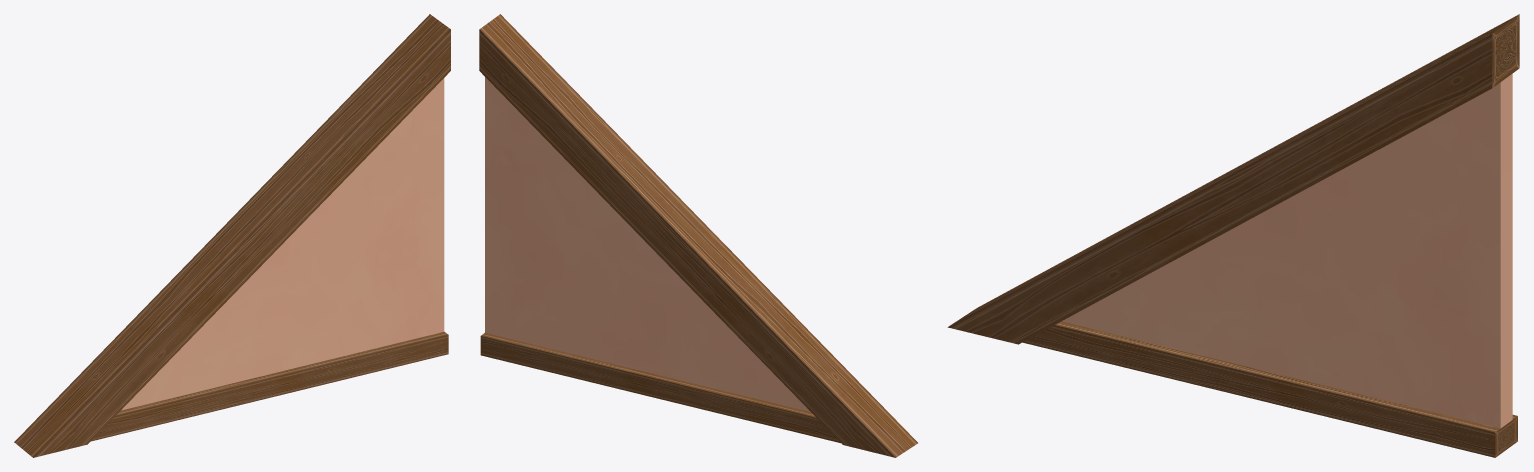
Rendered from SM_Roof_Wall_wrose.glb.
3 views of the same model, side by side, from view 1: azimuth 30°, elevation 25°; view 2: azimuth 150°, elevation 25°; view 3: azimuth 330°, elevation 25° (orthographic). The views are drawn at different scales.
Parts seen in each view (by area): view 1: SM_Roof_Wall; view 2: SM_Roof_Wall; view 3: SM_Roof_Wall.
Part boxes in pixels (x1,y1,x2,y2): SM_Roof_Wall: [14, 14, 450, 457]; SM_Roof_Wall: [479, 14, 917, 457]; SM_Roof_Wall: [947, 14, 1519, 457].
Size of the model in its own units: 4.02 by 3.01 by 0.349.
Materials: 2 (2 with a texture image).
